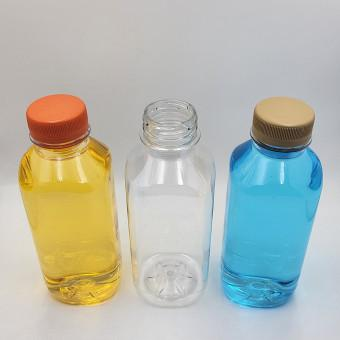bottle: (220, 96, 323, 309), (20, 97, 122, 303), (126, 101, 213, 305)
